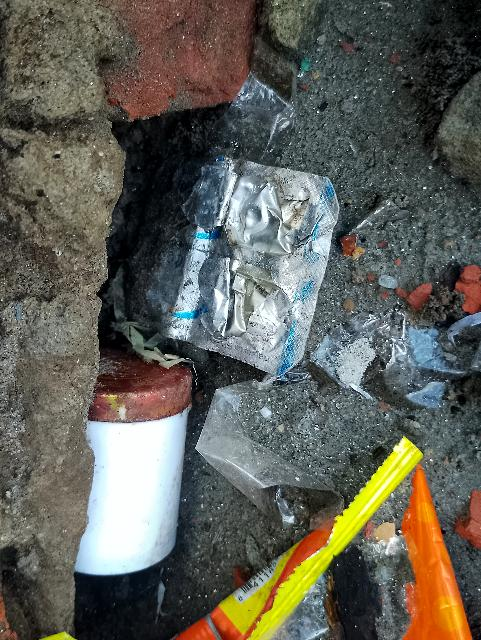medicine: (109, 135, 345, 391)
